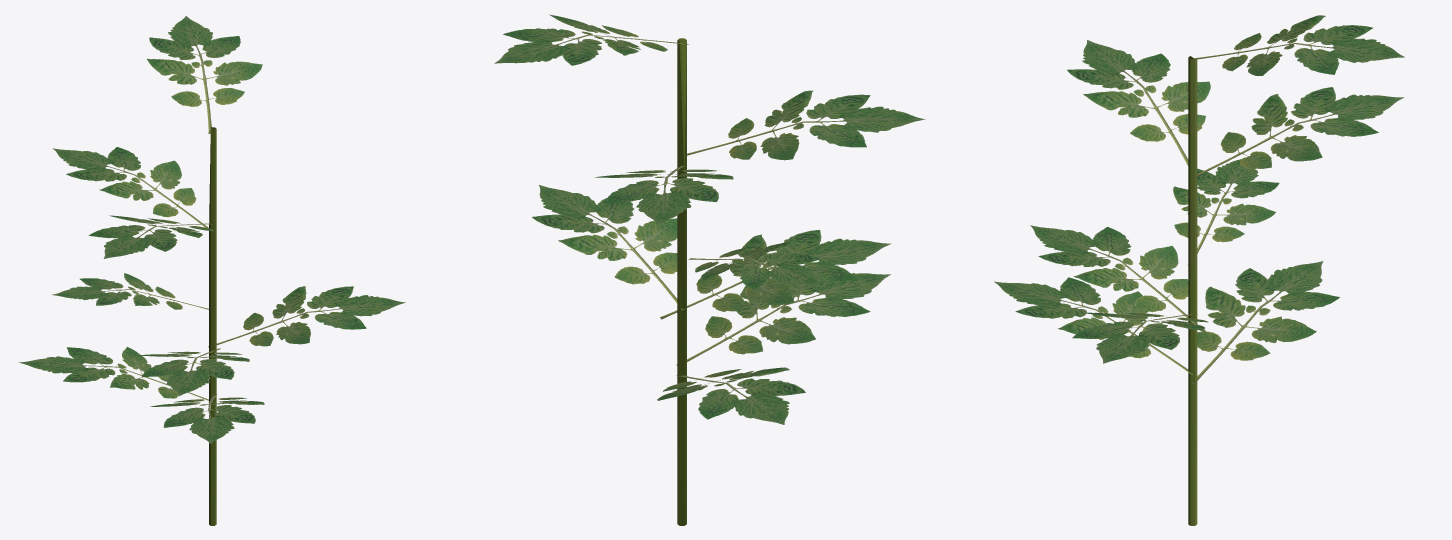
The model's file is Plant_stage_03.fbx.
3 renders of one model, left to right at view 1: azimuth 30°, elevation 25°; view 2: azimuth 150°, elevation 25°; view 3: azimuth 270°, elevation 25°, orthographic. The views are drawn at different scales.
Parts seen in each view (by area): view 1: Plant_Stage_03; view 2: Plant_Stage_03; view 3: Plant_Stage_03.
Boxes of the visible parts, x1=… form: Plant_Stage_03: x1=18, y1=16, x2=405, y2=525; Plant_Stage_03: x1=494, y1=14, x2=925, y2=525; Plant_Stage_03: x1=994, y1=15, x2=1404, y2=525.
Bounding box in the file's own units: 12.28 × 12.41 × 14.35.
